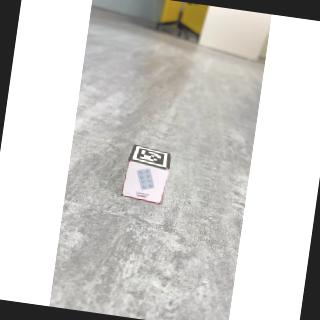Tablet: (122, 161, 170, 203)
